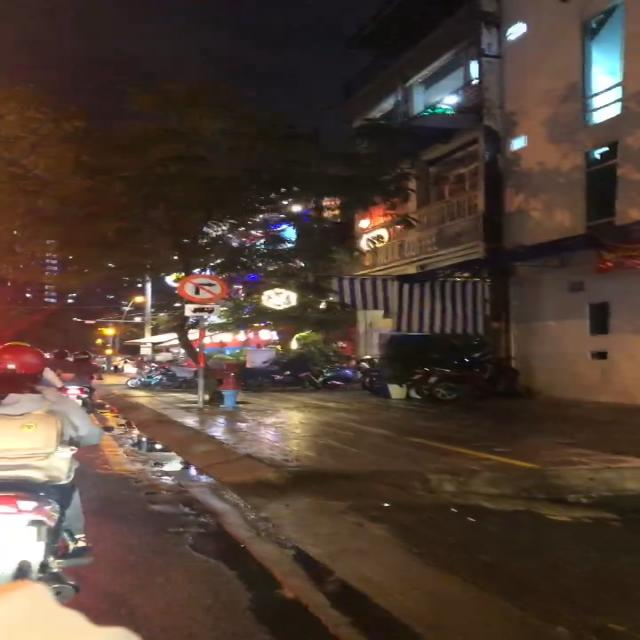Bien bao cam re phai: (173, 271, 229, 304)
